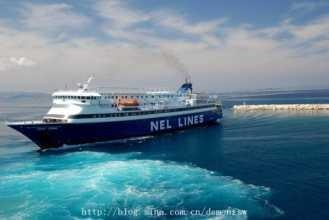youlun: (7, 74, 224, 154)
